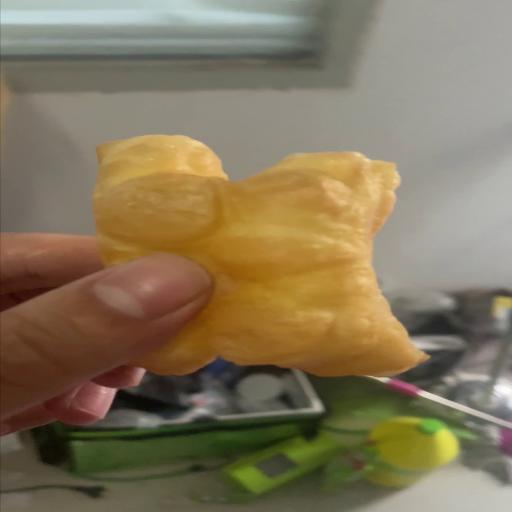street_golden_good: (96, 136, 424, 376)
